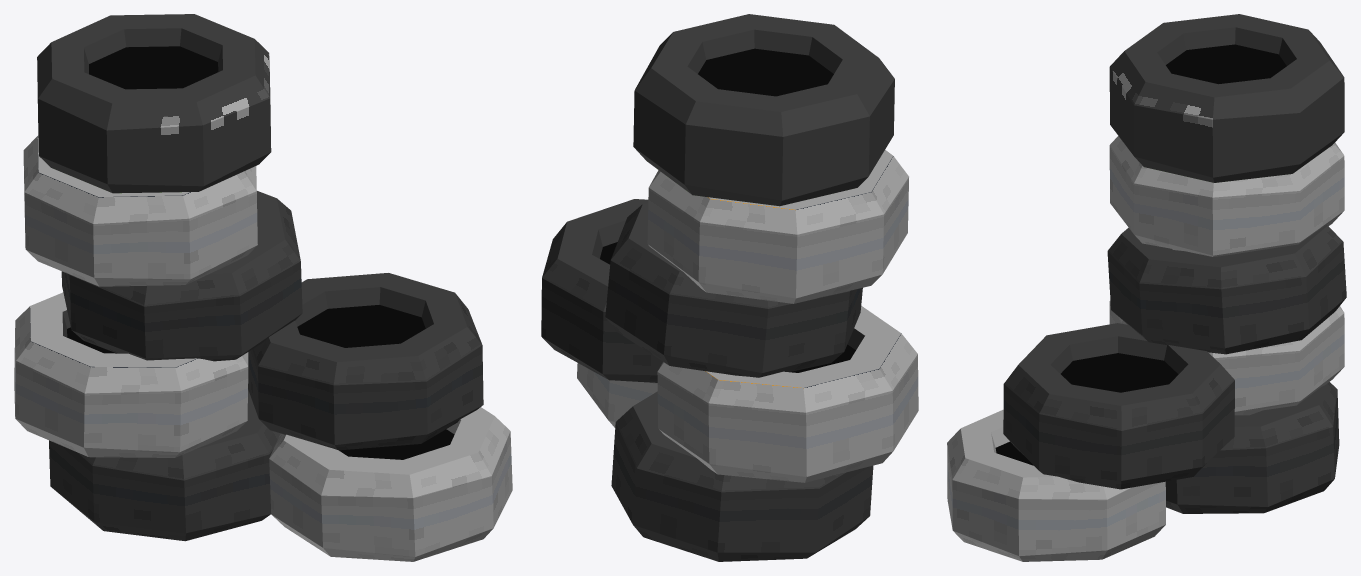
File: tyre_stack_a.glb
3 views of the same model, side by side, from view 1: azimuth 30°, elevation 25°; view 2: azimuth 150°, elevation 25°; view 3: azimuth 270°, elevation 25° (orthographic). The views are drawn at different scales.
Parts seen in each view (by area): view 1: SM_Prop_Tyre_Stack_02; view 2: SM_Prop_Tyre_Stack_02; view 3: SM_Prop_Tyre_Stack_02.
Boxes of the visible parts, x1,y1,x2,y2 form: SM_Prop_Tyre_Stack_02: [14, 14, 512, 561]; SM_Prop_Tyre_Stack_02: [541, 14, 918, 561]; SM_Prop_Tyre_Stack_02: [947, 14, 1346, 561].
Size of the model in its own units: 1.14 by 1.25 by 1.08.
Materials: 1 (1 with a texture image).
